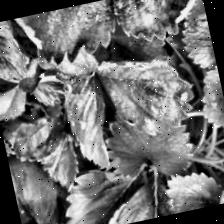Powdery Mildew Leaf: (93, 43, 203, 144), (0, 0, 126, 77), (60, 75, 118, 175), (112, 0, 209, 48), (34, 43, 105, 102), (0, 84, 30, 123)
